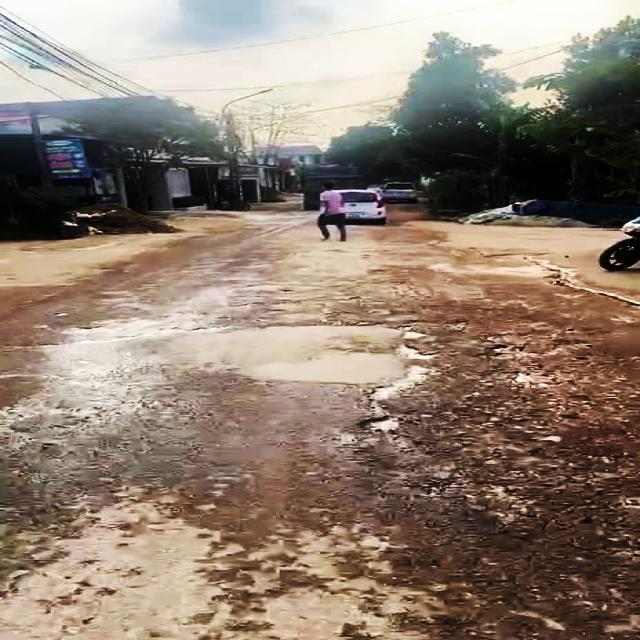pothole: (412, 476, 541, 525), (487, 337, 563, 392), (366, 365, 434, 402), (388, 322, 442, 362), (354, 414, 403, 436)
